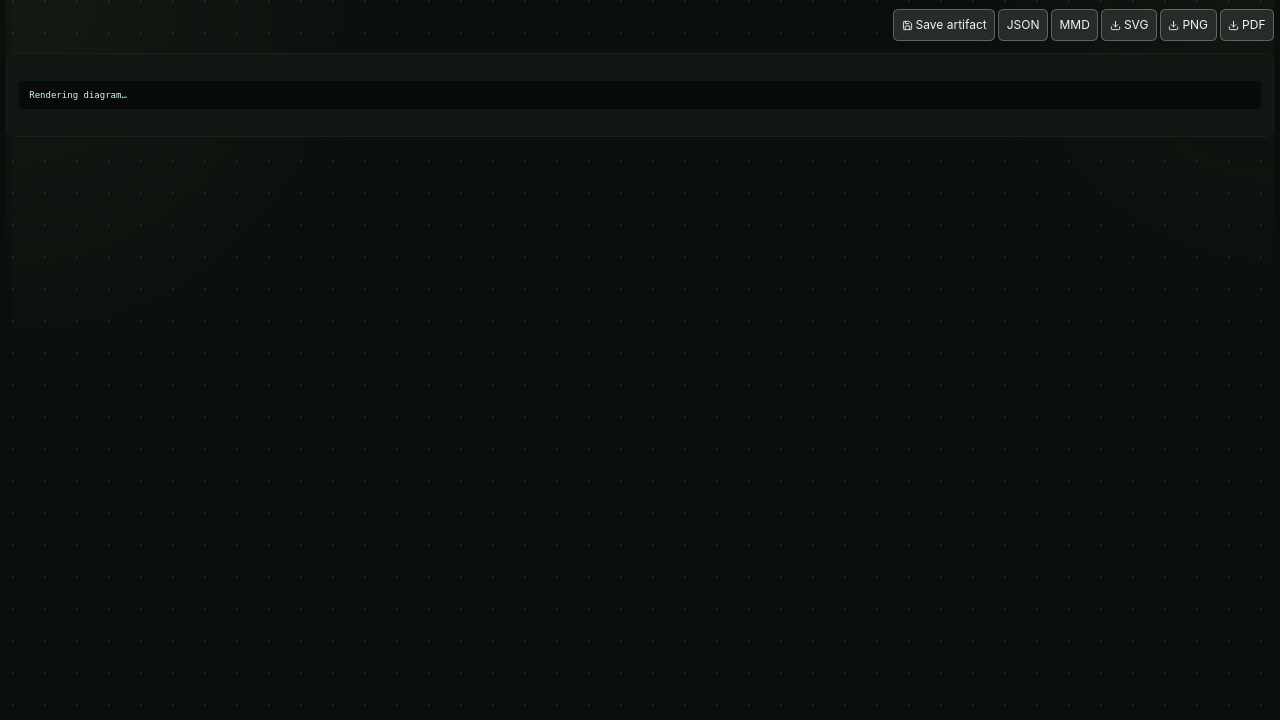
DeepSpace markdown streaming › shows Mermaid artifact save failures inline
Click the button with aria-label "Save diagram artifact" at (944, 25), box [893,9,995,41]
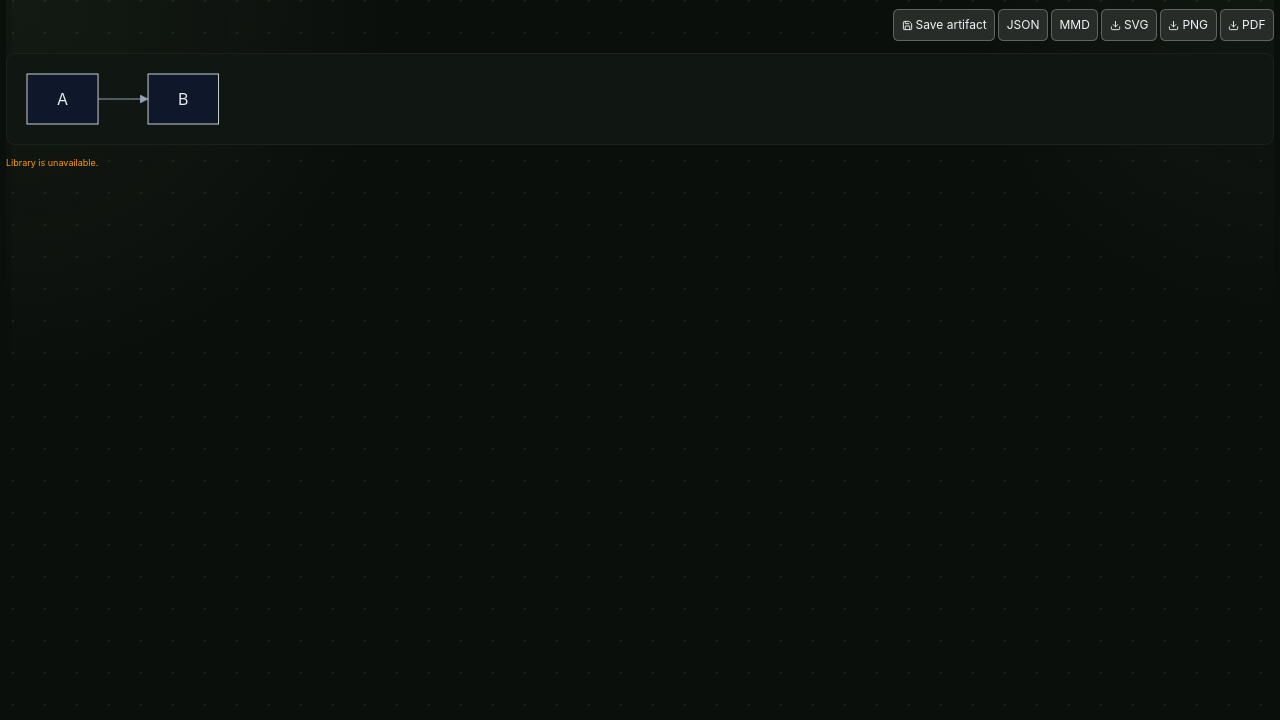
Now the message reads "Library is unavailable.", box [6,157,98,168]
